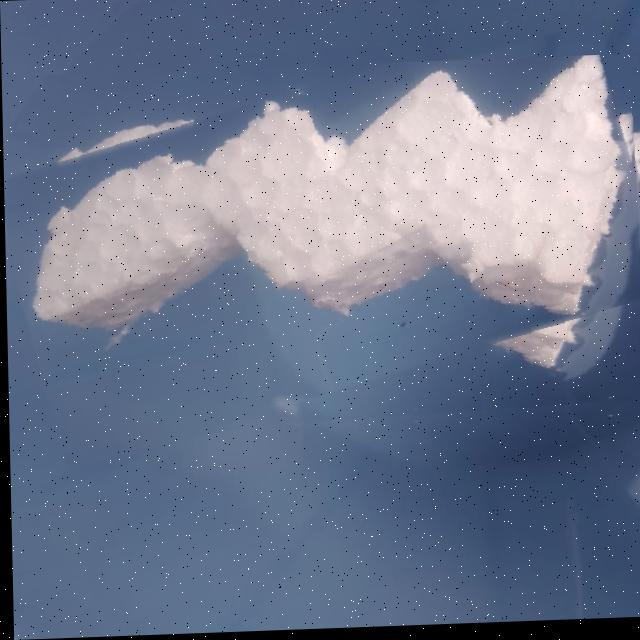litter: (4, 57, 640, 441)
